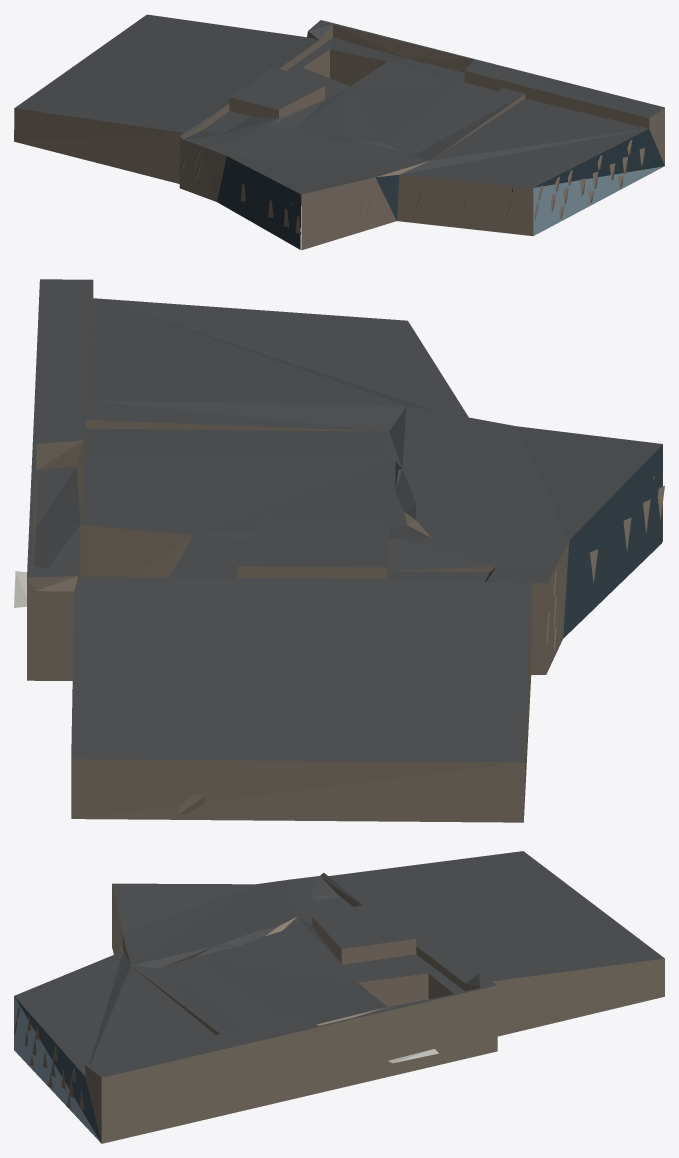
The model's file is zwembad-bijlmer.lod2.glb.
3 renders of one model, top to bottom at view 1: azimuth 30°, elevation 25°; view 2: azimuth 150°, elevation 25°; view 3: azimuth 270°, elevation 25°, orthographic. The views are drawn at different scales.
Parts seen in each view (by area): view 1: lod2; view 2: lod2; view 3: lod2.
Part boxes in pixels (<box>): lod2: <box>14,14,664,250</box>; lod2: <box>14,279,664,822</box>; lod2: <box>14,851,664,1143</box>.
Size of the model in its own units: 101 by 12.37 by 110.
